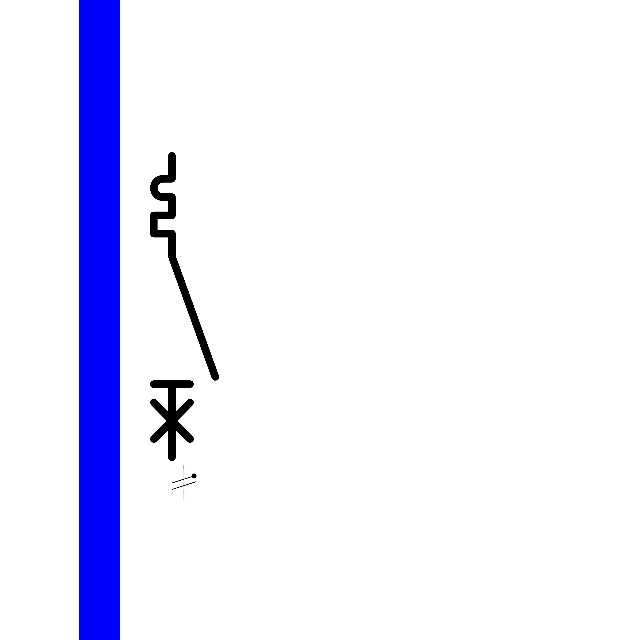interruptor_termomagnetico: (146, 148, 223, 465)
